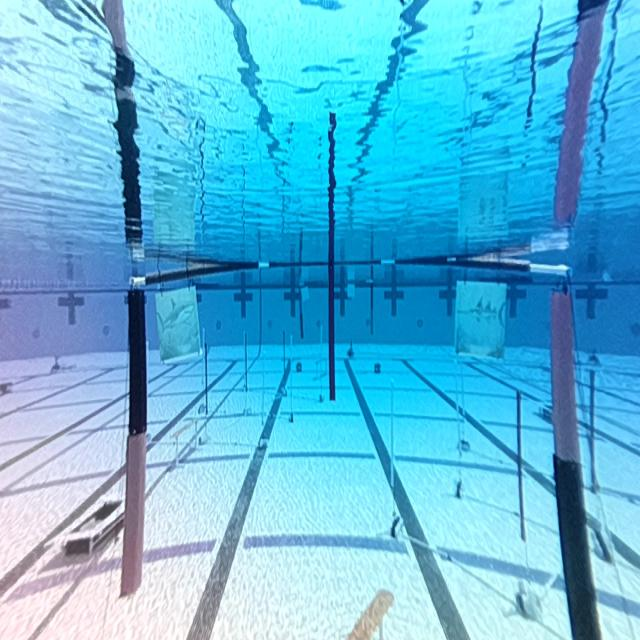pointed_nose: (454, 276, 506, 371)
round_nose: (158, 292, 201, 356)
